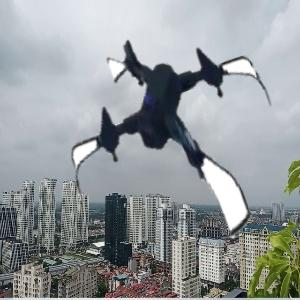drone: (61, 26, 289, 254)
